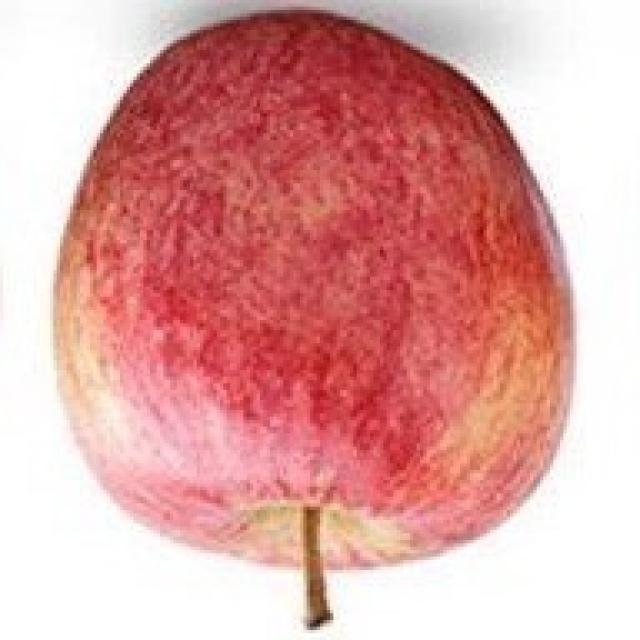75-_ripeness: (51, 9, 570, 578)
